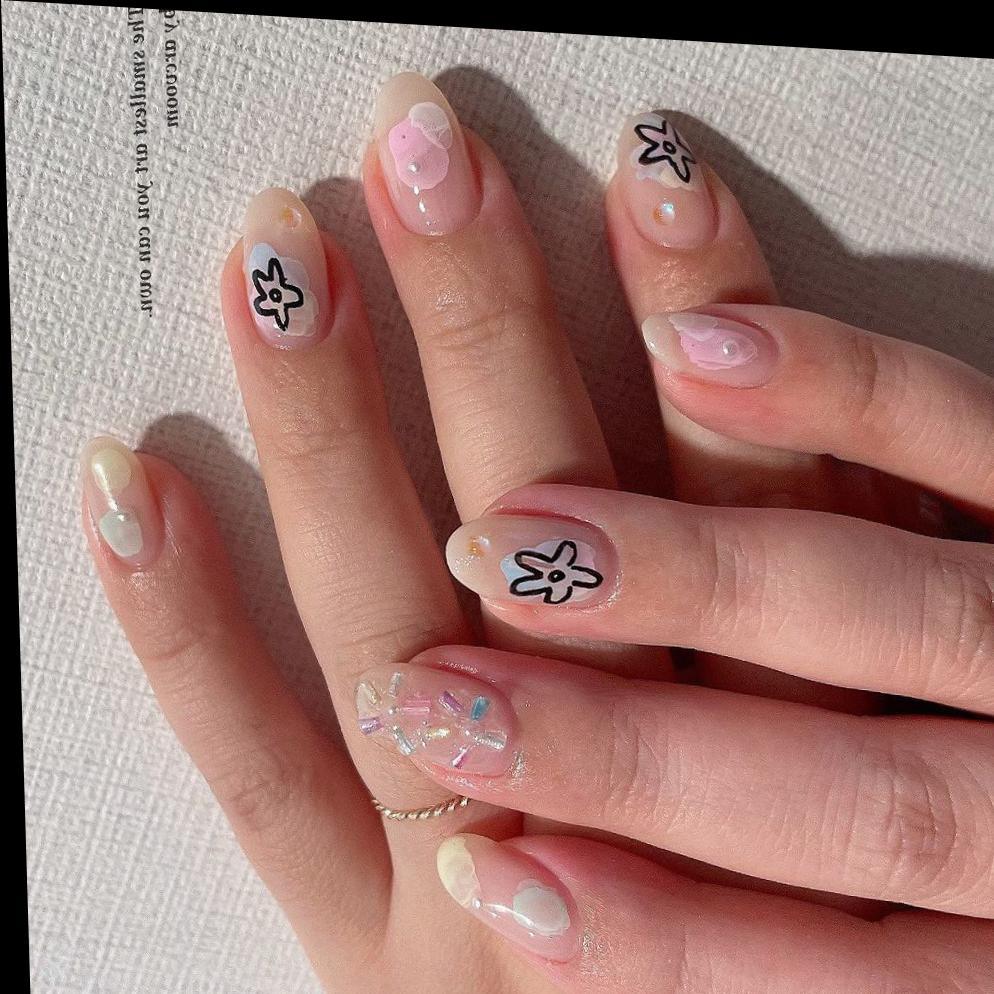nail: (352, 659, 520, 781), (366, 68, 481, 239), (432, 829, 576, 961), (441, 506, 617, 614), (236, 184, 333, 353), (613, 106, 718, 252), (638, 305, 778, 391), (76, 432, 163, 570)
